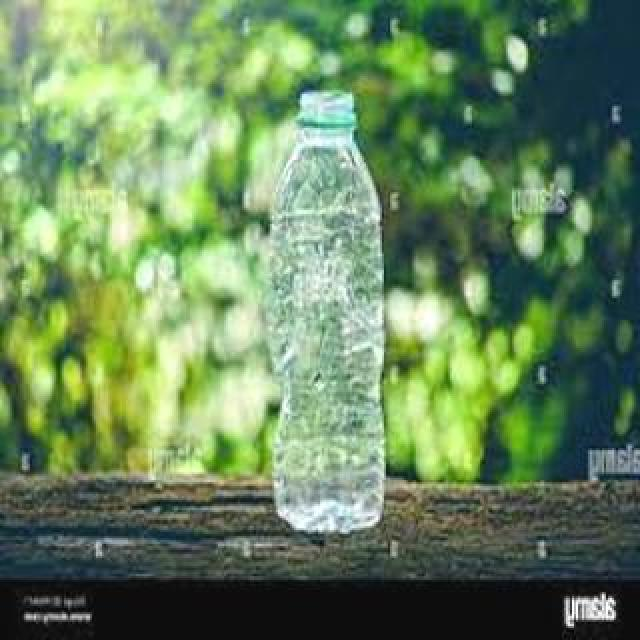Pet_Bottle: (258, 92, 388, 530)
